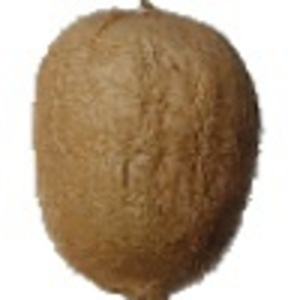kiwi: (30, 1, 263, 300)
